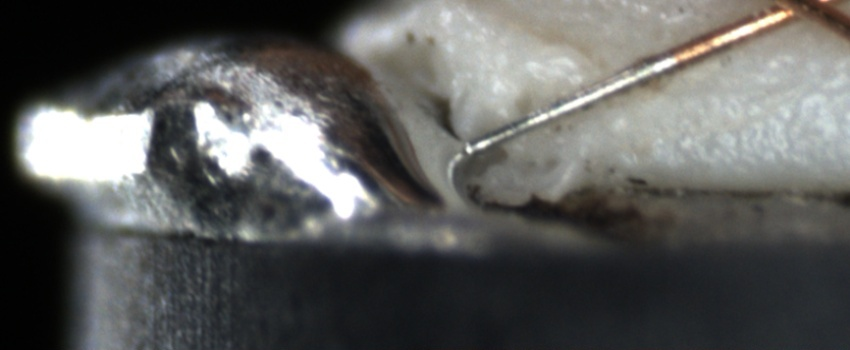CL: (744, 0, 839, 32)
DL: (680, 67, 848, 119)
TS: (467, 53, 678, 155)
